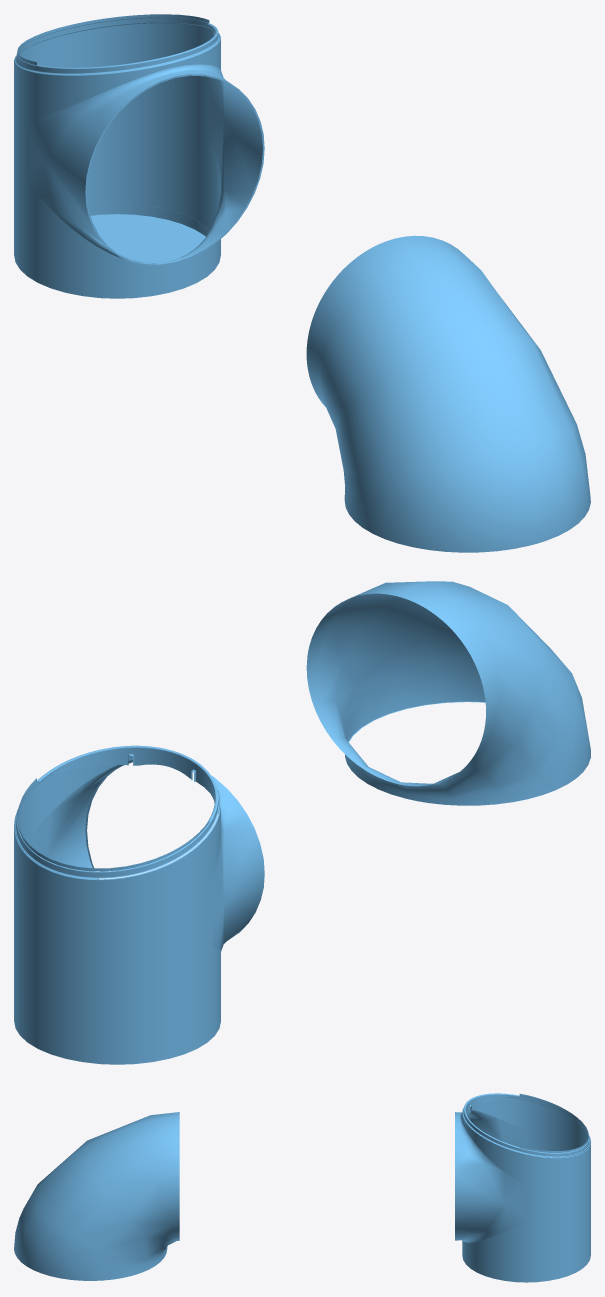
File: ur3e_scaled_19.obj
The picture shows the model from 3 angles, top to bottom: view 1: azimuth 30°, elevation 25°; view 2: azimuth 150°, elevation 25°; view 3: azimuth 270°, elevation 25°; orthographic projection. The views are drawn at different scales.
Size of the model in its own units: 0.075 by 0.0793 by 0.2822.
